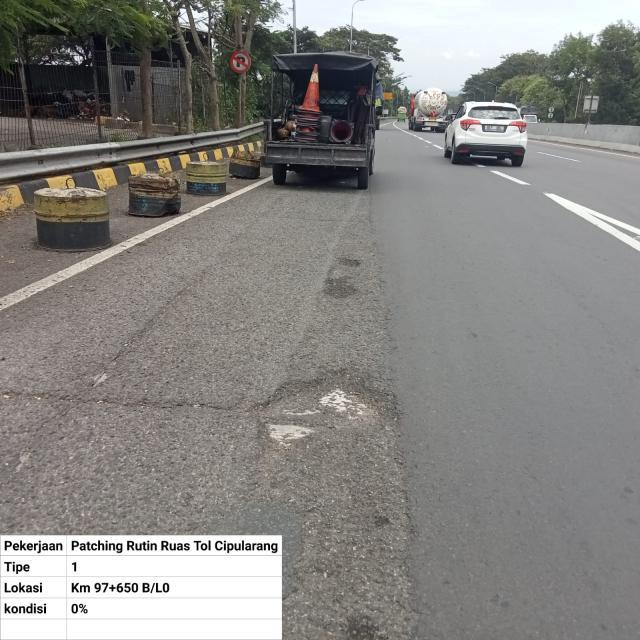Buraco: (243, 364, 404, 466)
